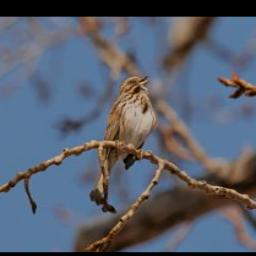Sparrow: (88, 72, 158, 206)
